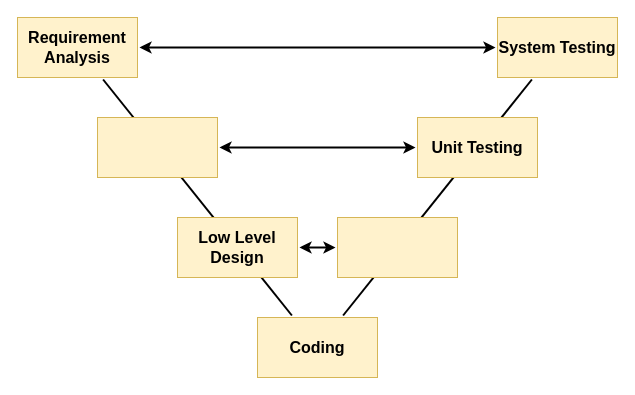
The diagram is 635 pixels wide and 395 high, and some of its shapes have lost their labels. The box of each missing label's shape, as (x1, y1, x2, y2) in pixels:
High Level Design: (96, 116, 218, 178)
Integration Testing: (336, 216, 458, 278)
